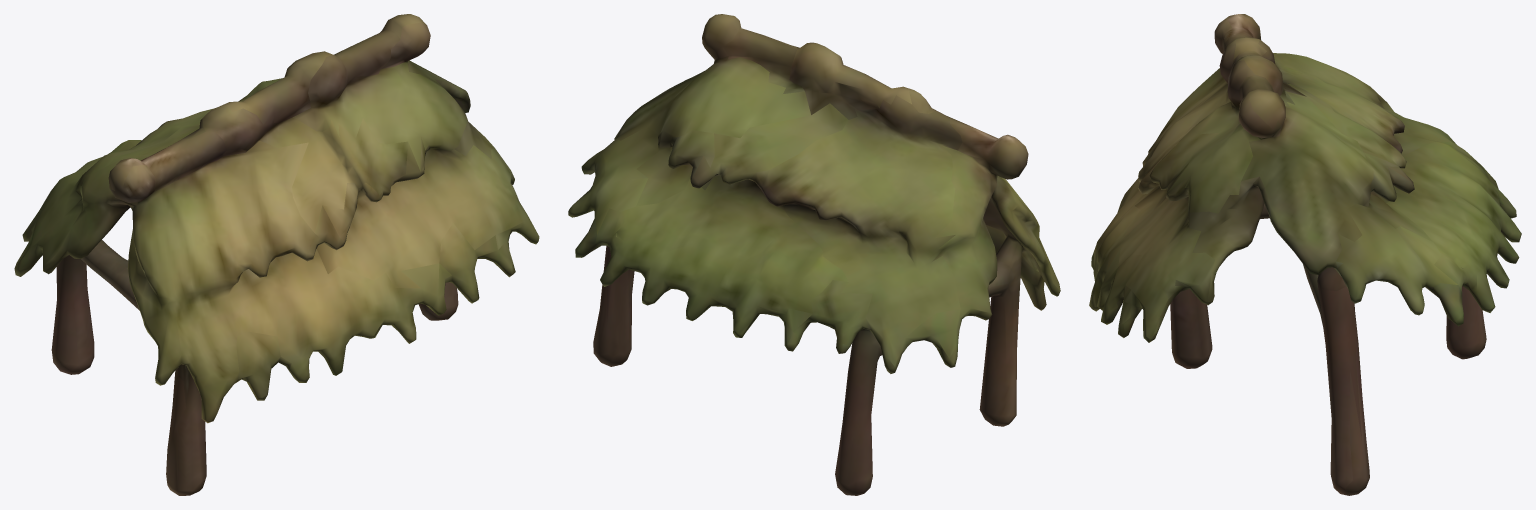
The model's file is v25_cobertura_palha.glb.
The picture shows the model from 3 angles, left to right: view 1: azimuth 30°, elevation 25°; view 2: azimuth 150°, elevation 25°; view 3: azimuth 270°, elevation 25°; orthographic projection. The views are drawn at different scales.
Parts seen in each view (by area): view 1: v25_cobertura_palha; view 2: v25_cobertura_palha; view 3: v25_cobertura_palha.
Boxes of the visible parts, left/top/right/bottom form: v25_cobertura_palha: left=14, top=14, right=539, bottom=495; v25_cobertura_palha: left=568, top=14, right=1060, bottom=495; v25_cobertura_palha: left=1089, top=14, right=1521, bottom=495.
Bounding box in the file's own units: 0.6199 × 0.5451 × 0.5282.
Materials: 1 (1 with a texture image).
